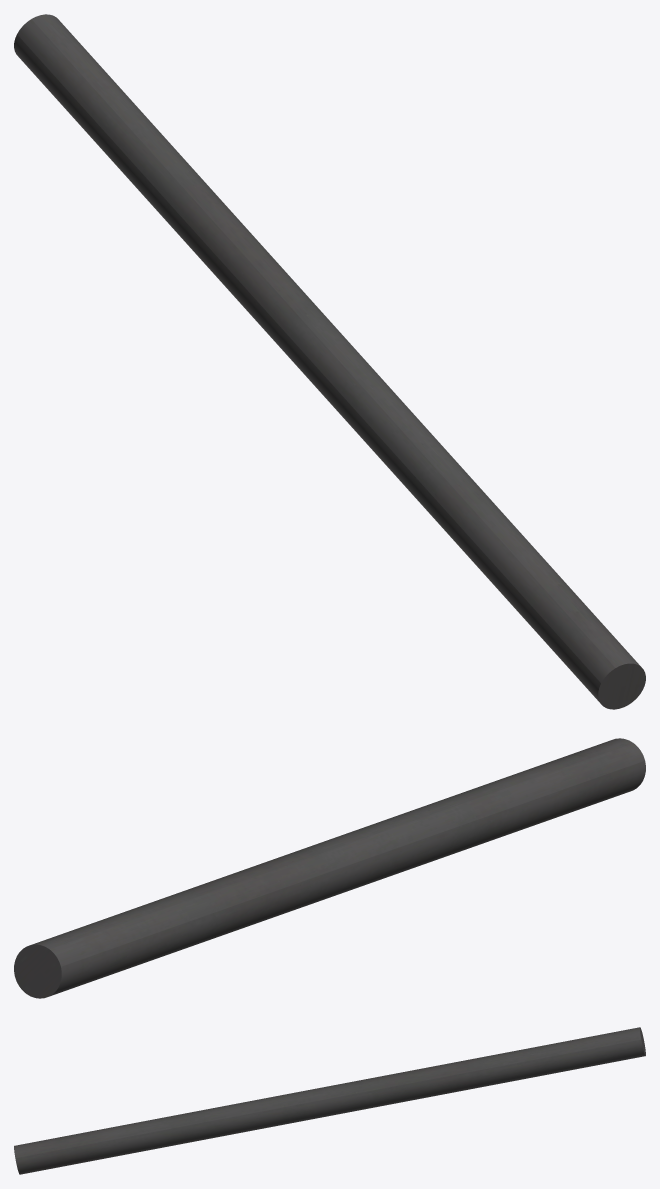
The model's file is stand__right_rear_post.glb.
The picture shows the model from 3 angles, top to bottom: view 1: azimuth 30°, elevation 25°; view 2: azimuth 150°, elevation 25°; view 3: azimuth 270°, elevation 25°; orthographic projection. The views are drawn at different scales.
Parts seen in each view (by area): view 1: geometry_0; view 2: geometry_0; view 3: geometry_0.
Part boxes in pixels (x1,y1,x2,y2): geometry_0: (14,14,645,709); geometry_0: (14,738,645,998); geometry_0: (14,1027,645,1174).
Size of the model in its own units: 0.036 by 0.1952 by 0.7724.
1 material, 1 textured.
